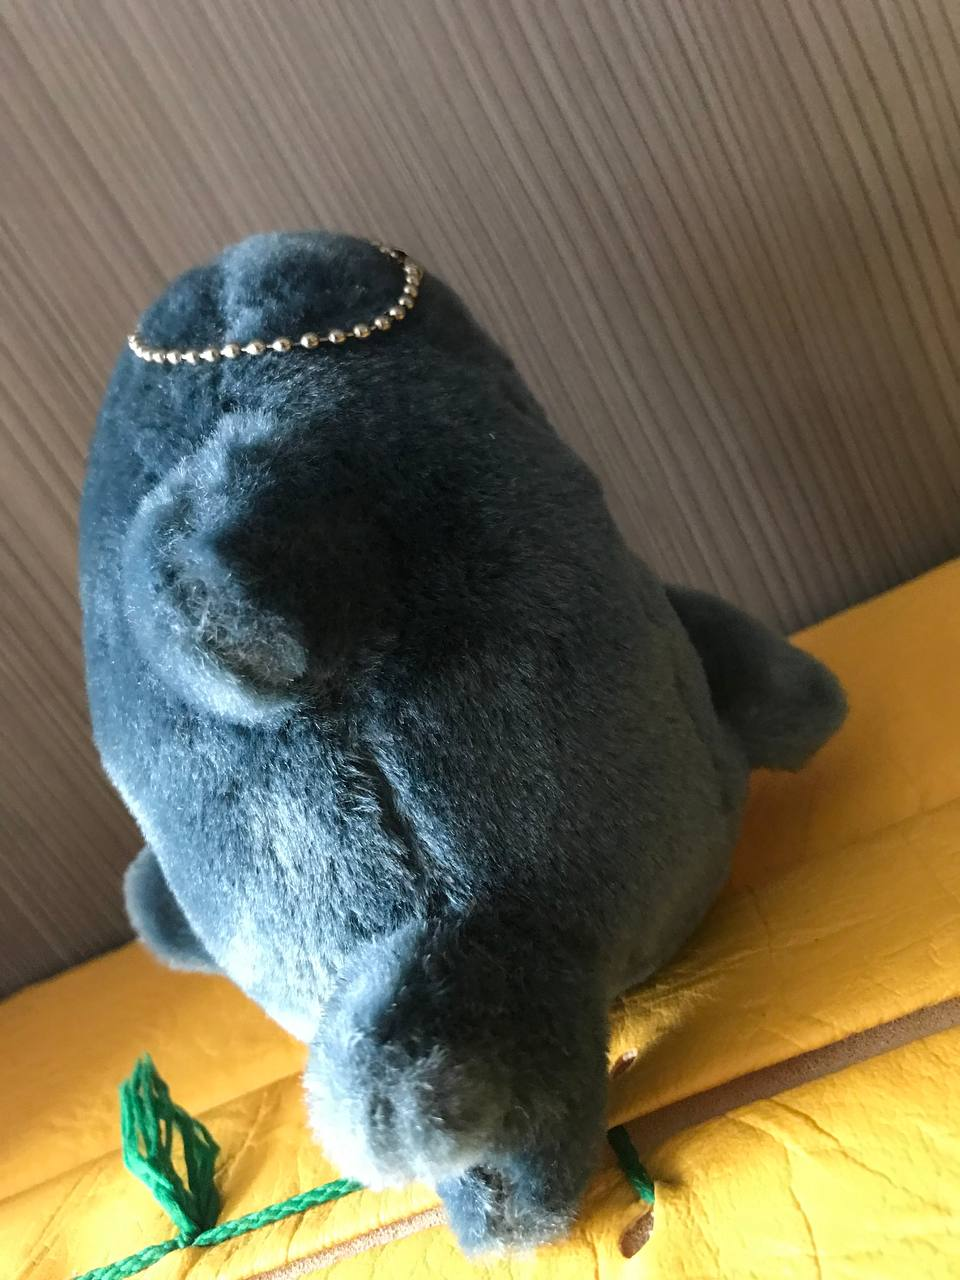cat_shark: (76, 224, 847, 1258)
